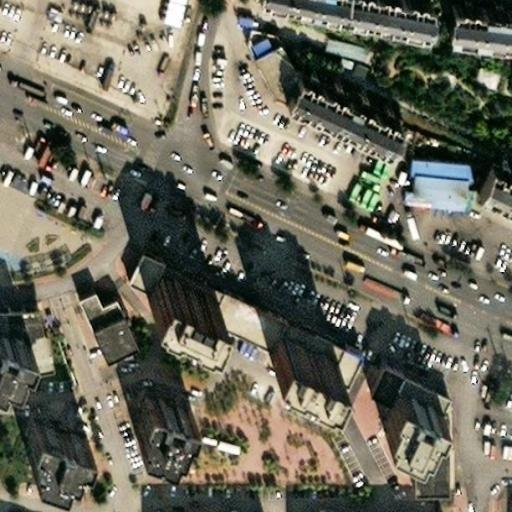building: (196, 279, 346, 371), (274, 54, 391, 130), (133, 251, 209, 307), (229, 10, 283, 86), (258, 307, 328, 360), (65, 279, 119, 345), (20, 407, 79, 467), (362, 348, 440, 393), (375, 372, 433, 432), (395, 144, 458, 196), (126, 382, 180, 441), (443, 0, 512, 30), (471, 145, 512, 193), (355, 269, 405, 303), (322, 32, 375, 62), (115, 243, 146, 279), (143, 506, 258, 512), (0, 318, 19, 354)
